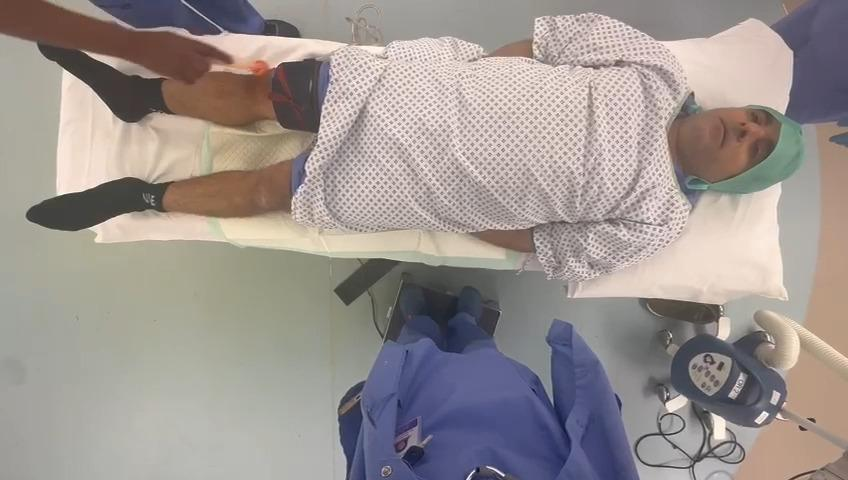bed: (36, 15, 795, 302)
patient: (28, 13, 802, 281)
prepstick: (227, 60, 270, 75)
tourniquet: (268, 58, 323, 132)
